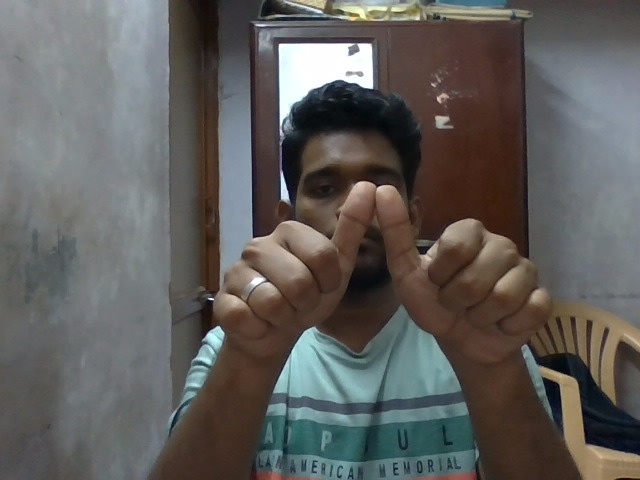A: (212, 177, 557, 369)
